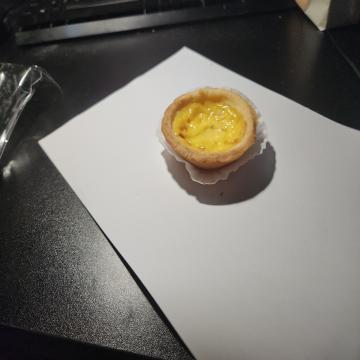EggTart: (160, 85, 258, 169)
